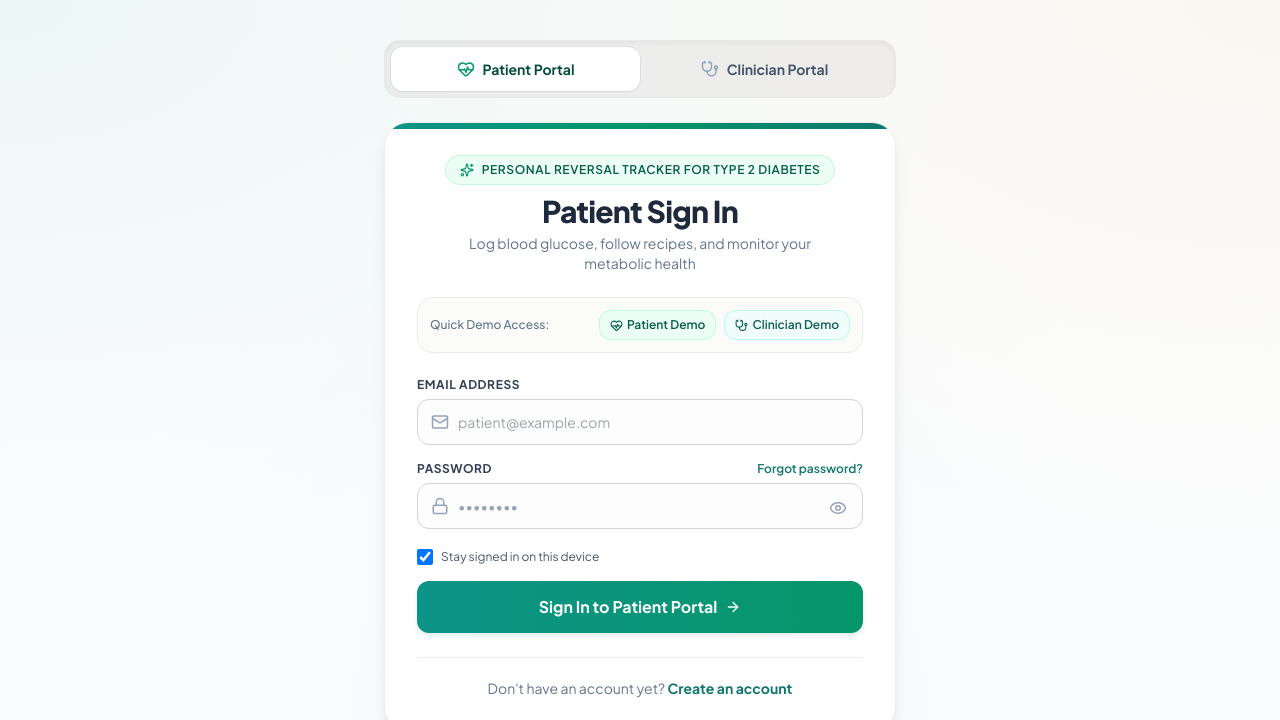
it: LoginPage Component › switches to Clinician Portal when clicking the Clinician tab
This screenshot has width=1280, height=720.
Click the button "Clinician Portal" at (764, 69), box [640, 47, 889, 91]
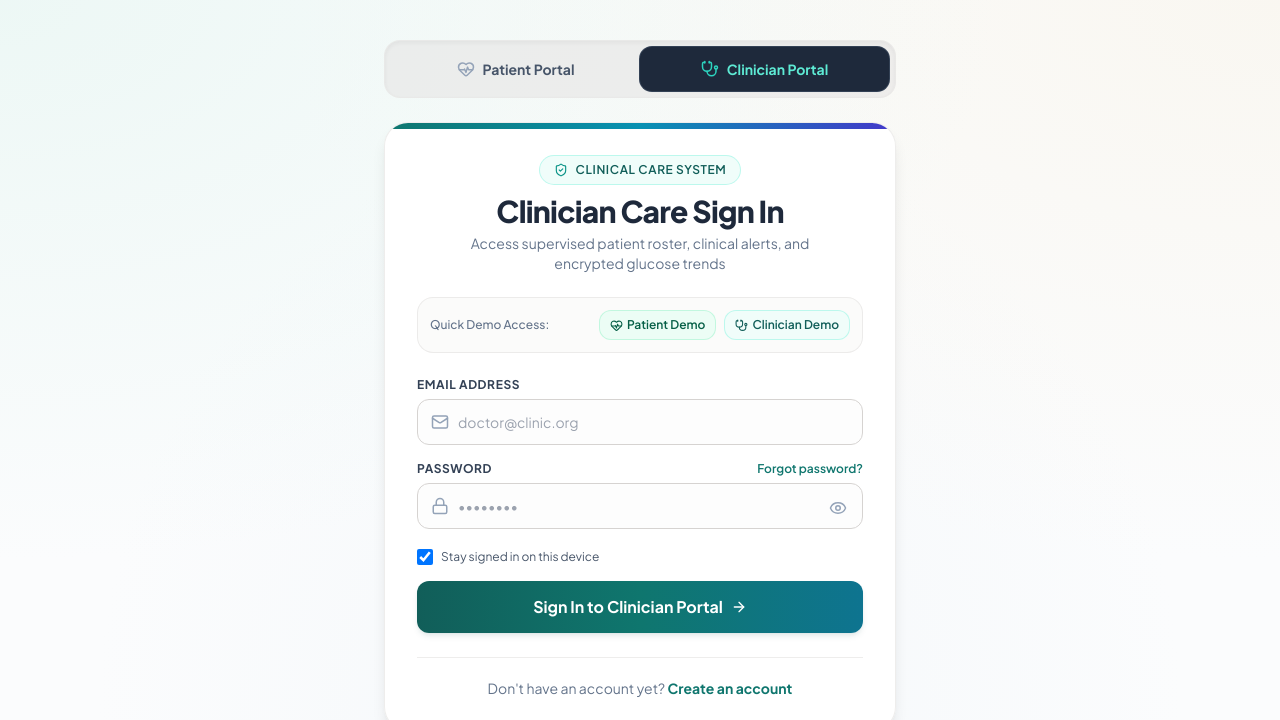
Check: the heading "Clinician Care Sign In" is shown, box [496, 192, 784, 230]
Check: the text "Clinical Care System" is shown, box [576, 162, 726, 178]
Check: the button "Sign In to Clinician Portal" is shown, box [417, 581, 863, 633]
